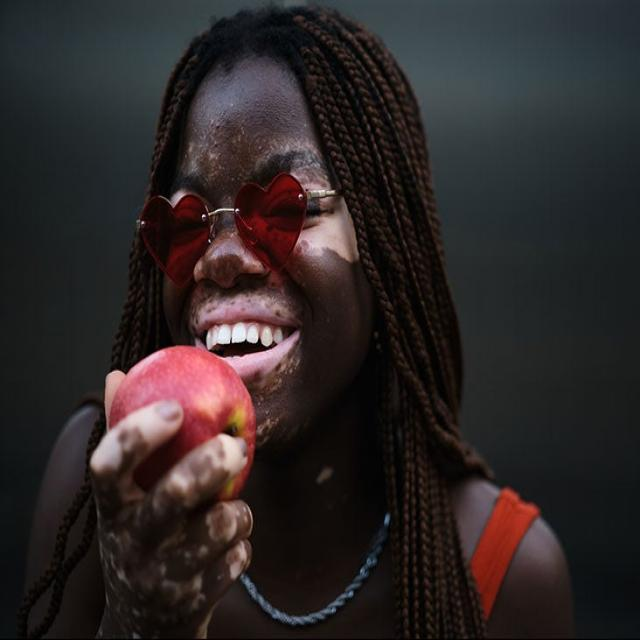vitiligo: (172, 174, 363, 428), (93, 404, 253, 609)
